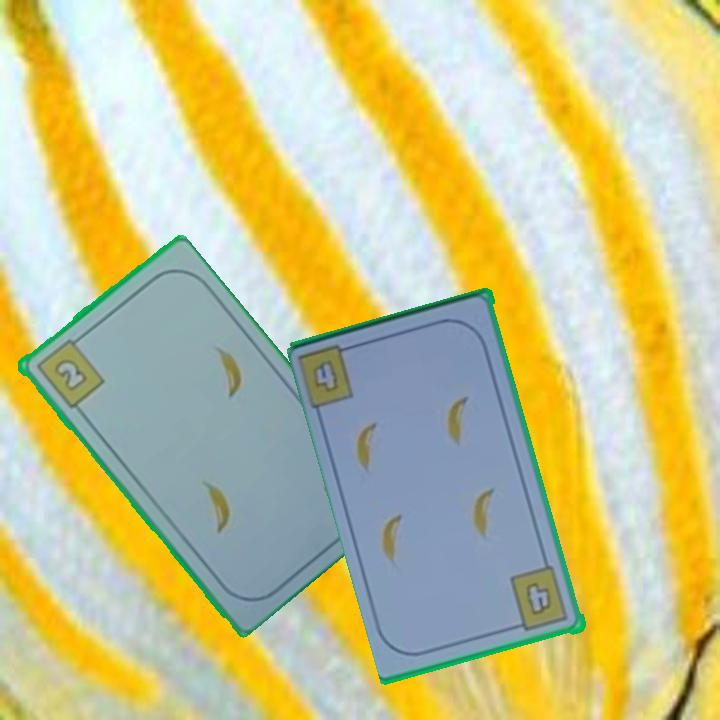2b: (32, 332, 107, 411)
4b: (506, 564, 572, 635), (297, 341, 362, 412)
